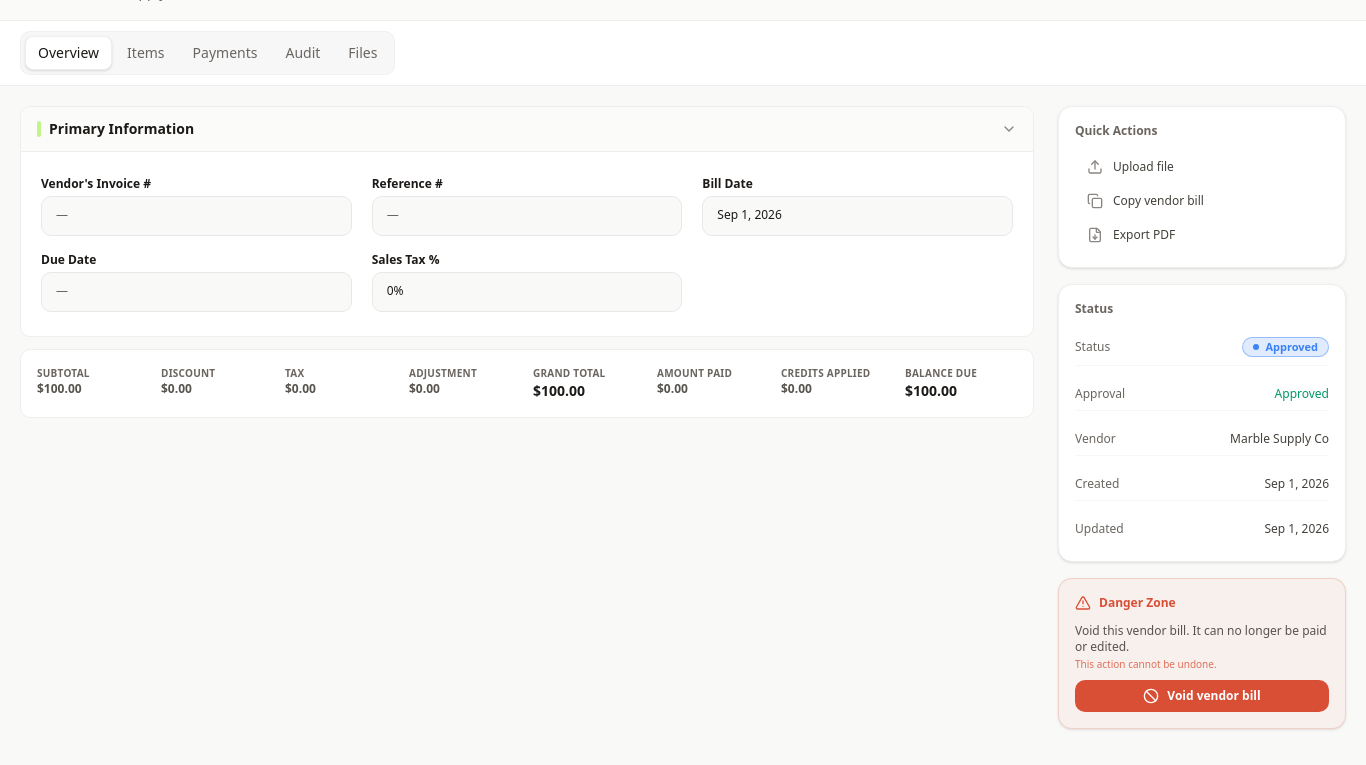
Test case: VendorBillDetailPage — status buttons › closes the dialog and shows the server error under the header when the move fails
(page scrolled)
What coordinates should you click on to do the following:
click the button with aria-label "Void Vendor Bill VB-1001"
I would click on:
 (1202, 696)
Its box is [1075, 680, 1329, 712].
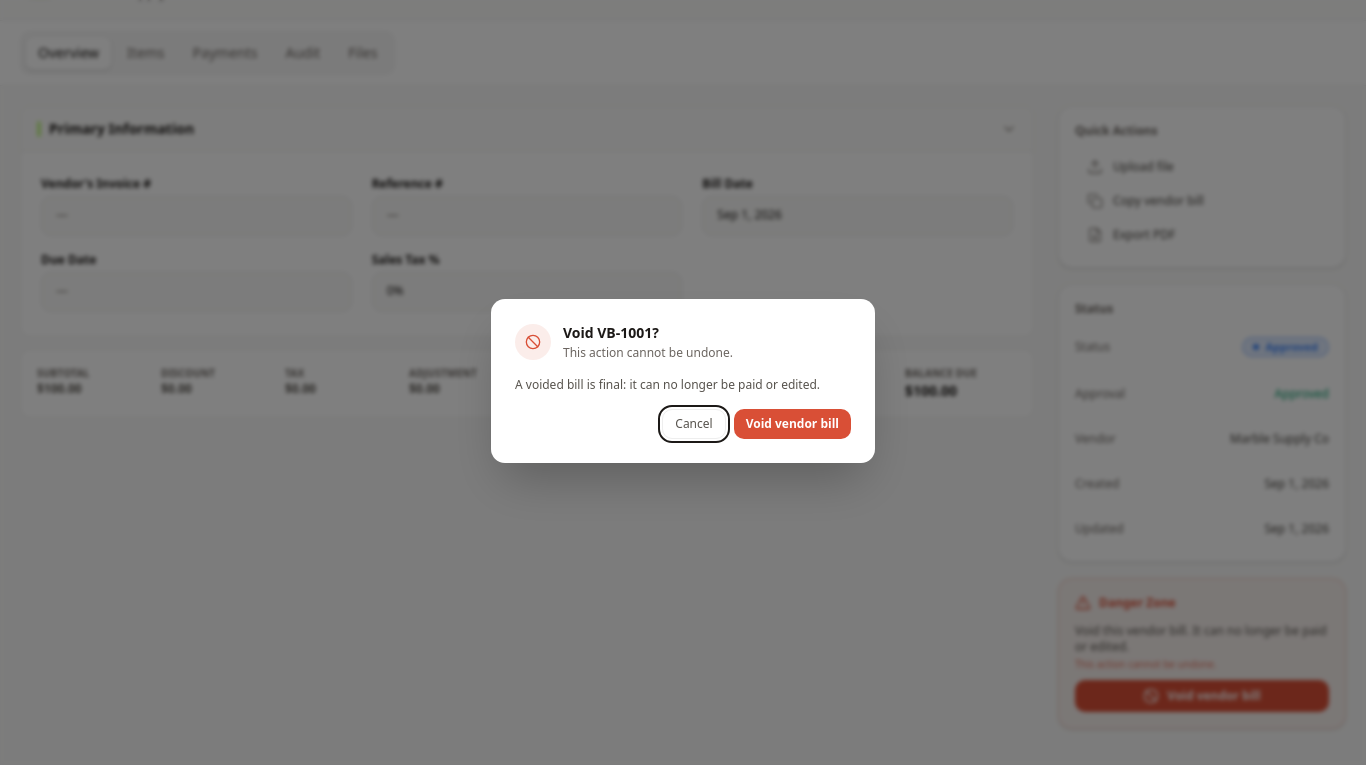
What coordinates should you click on to do the following:
click the button "Void vendor bill"
I would click on:
 (792, 424)
Its box is [734, 409, 851, 439].
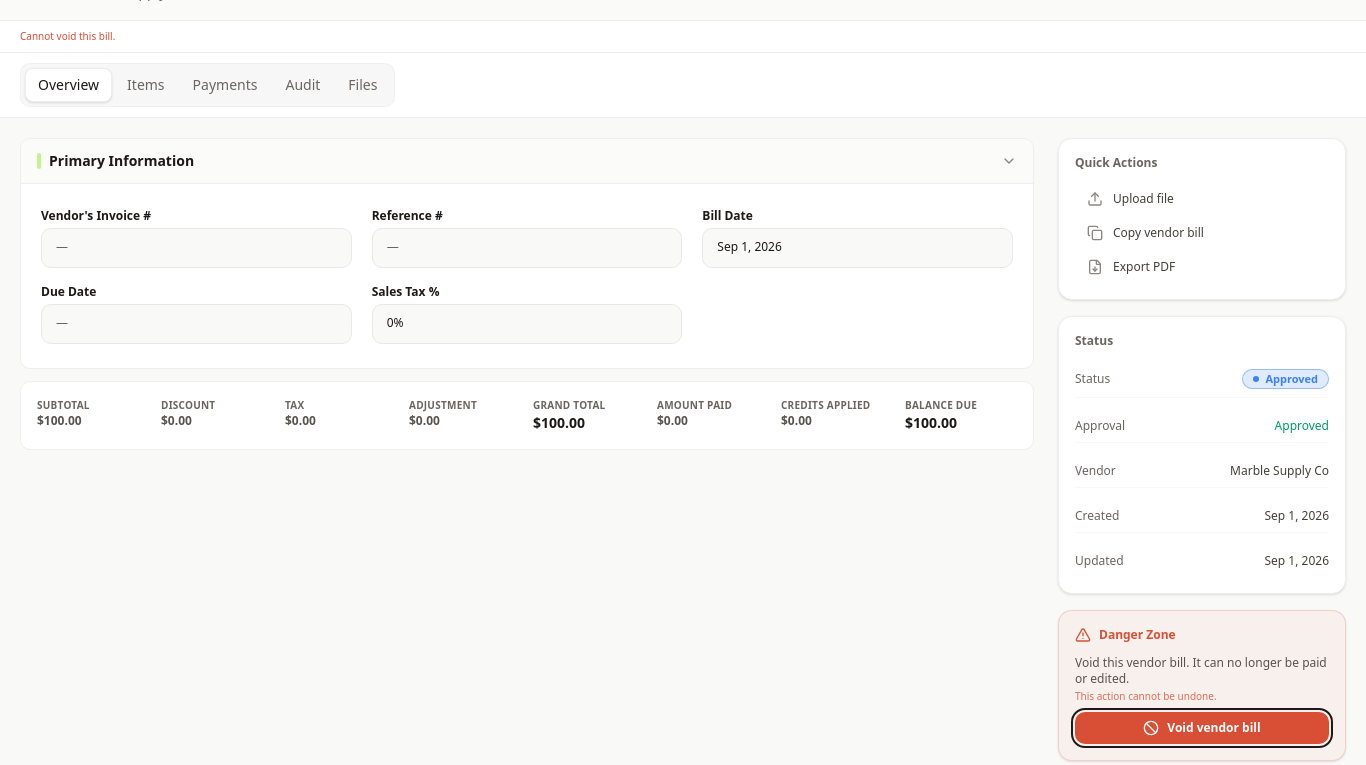
Expected: the message reads "Cannot void this bill.", [20, 29, 115, 43]
Expected: the heading "Void VB-1001?" is gone
